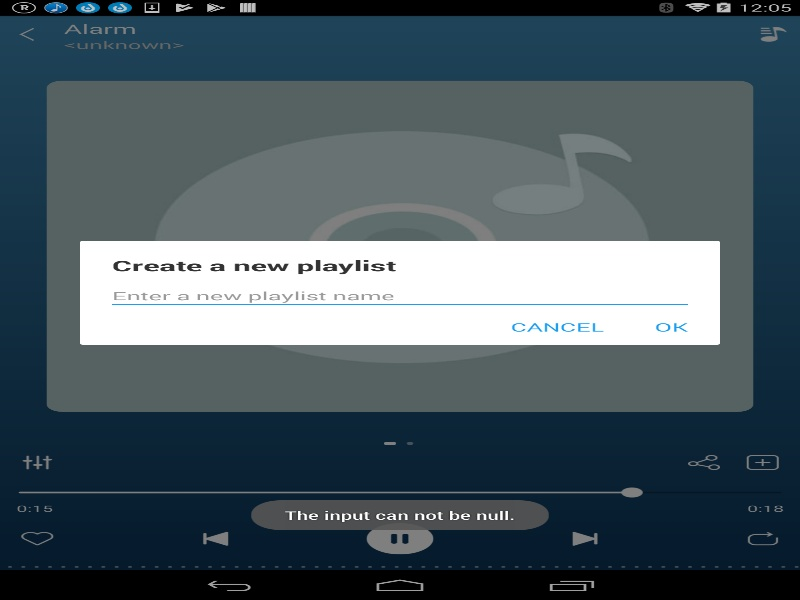Input: (112, 287, 688, 304)
